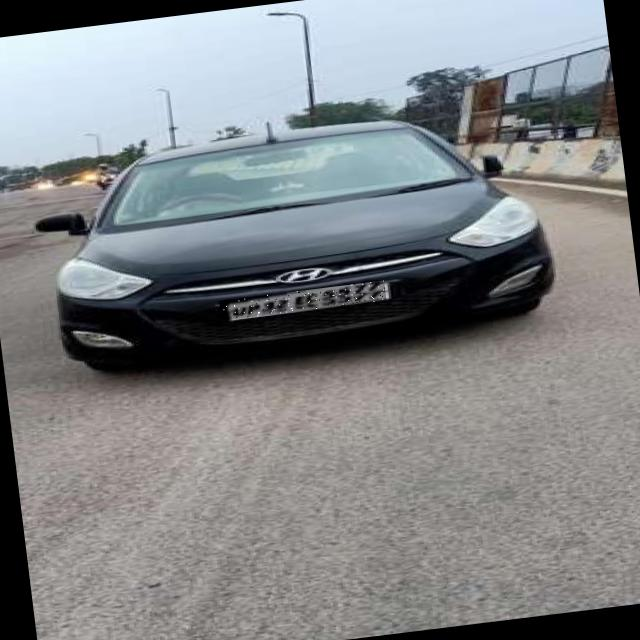Plate: (221, 281, 388, 321)
